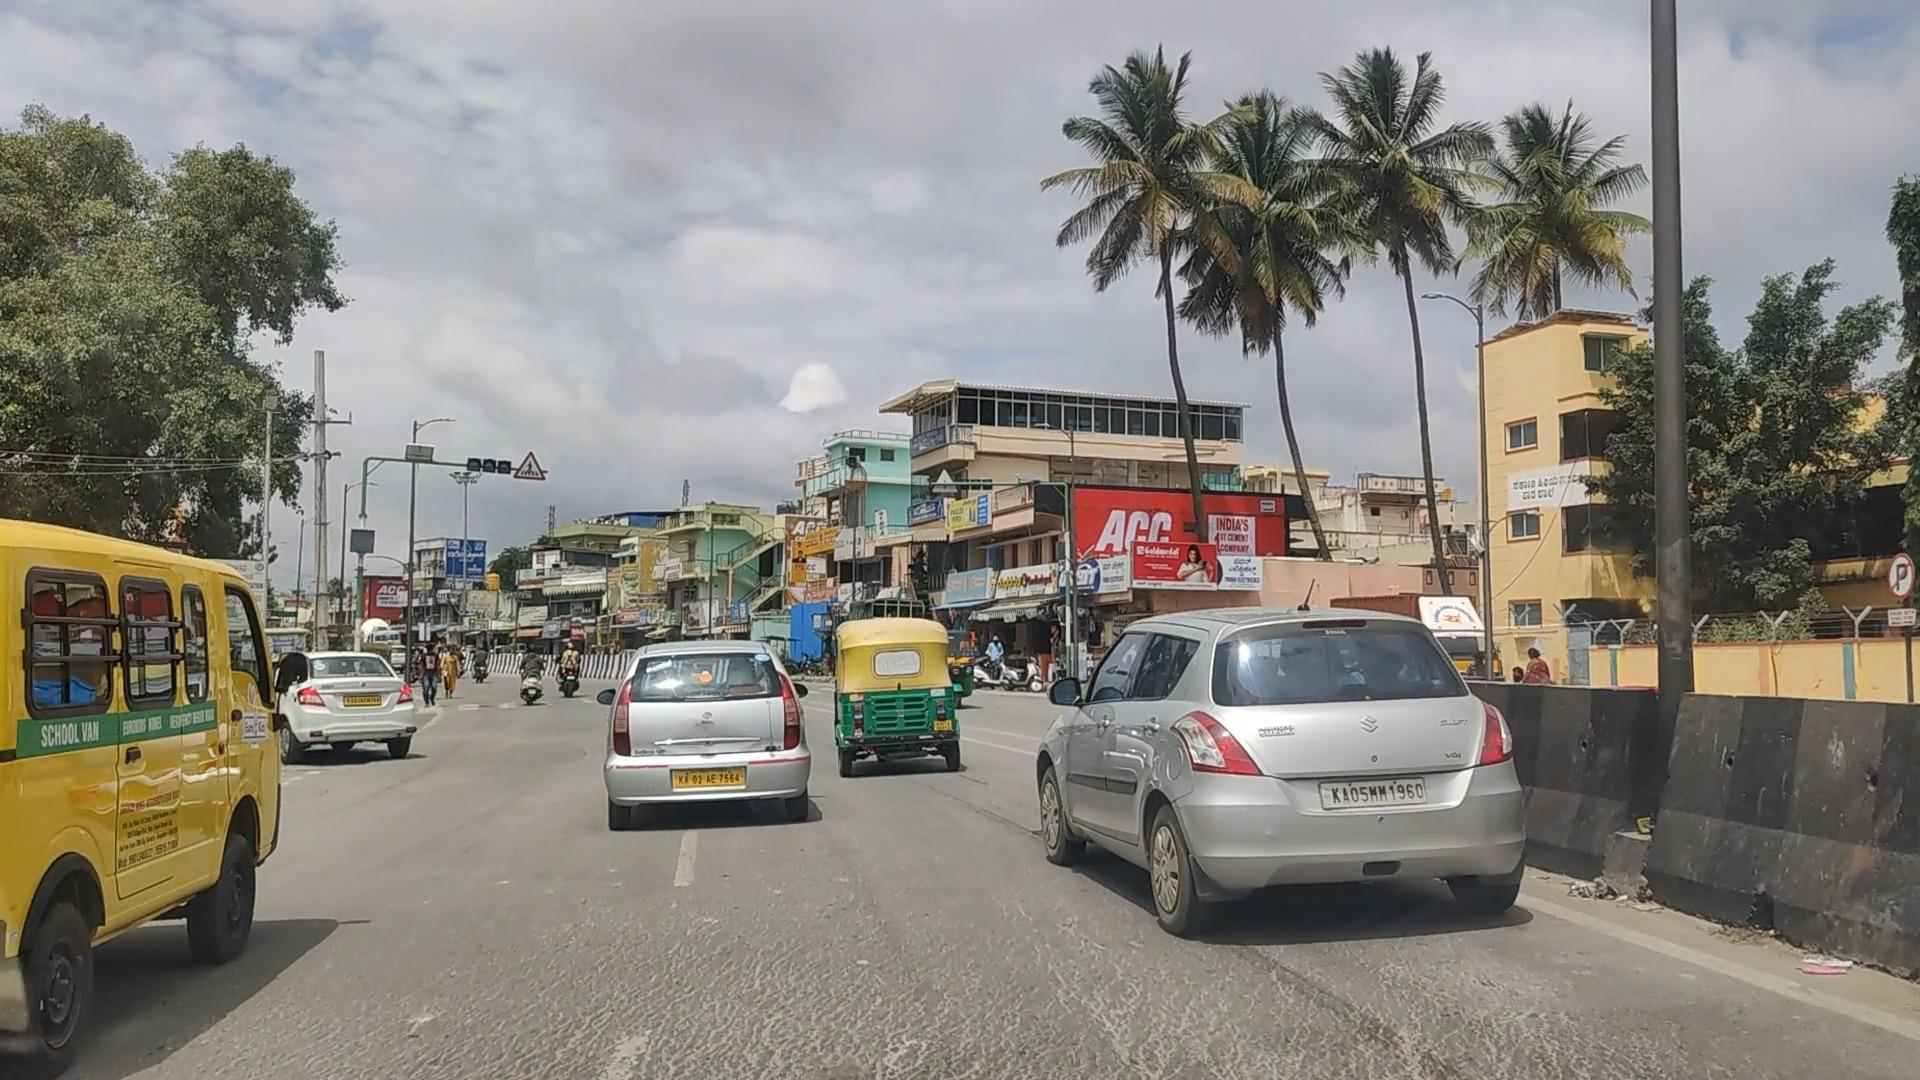LMV: (1030, 592, 1560, 997), (0, 463, 289, 1080), (582, 605, 862, 857), (827, 593, 996, 811), (270, 613, 440, 769)
